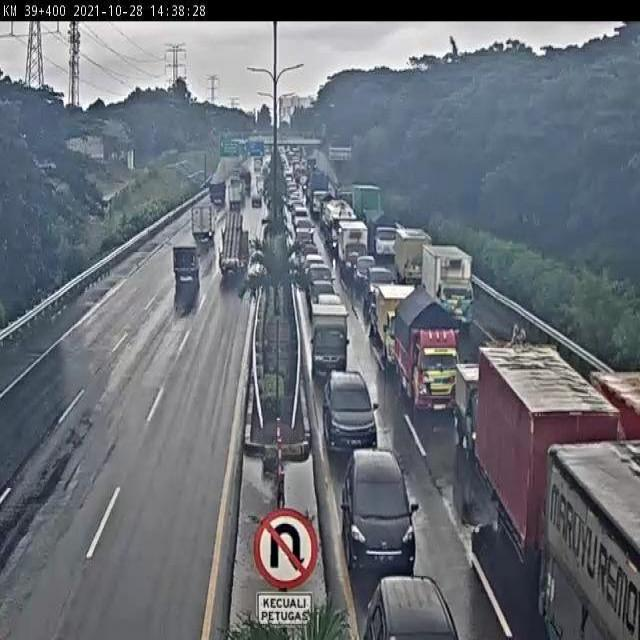car: (345, 443, 421, 569), (359, 573, 464, 640), (319, 363, 379, 463), (364, 267, 402, 308), (301, 265, 341, 292), (310, 288, 343, 316), (341, 224, 366, 260), (354, 256, 376, 295), (302, 249, 328, 272)
truck: (479, 339, 618, 557), (391, 287, 473, 427), (421, 243, 486, 335), (449, 358, 500, 466), (373, 285, 420, 371), (310, 307, 353, 375), (397, 222, 435, 290), (222, 216, 254, 276), (172, 244, 200, 284), (190, 204, 216, 243)
